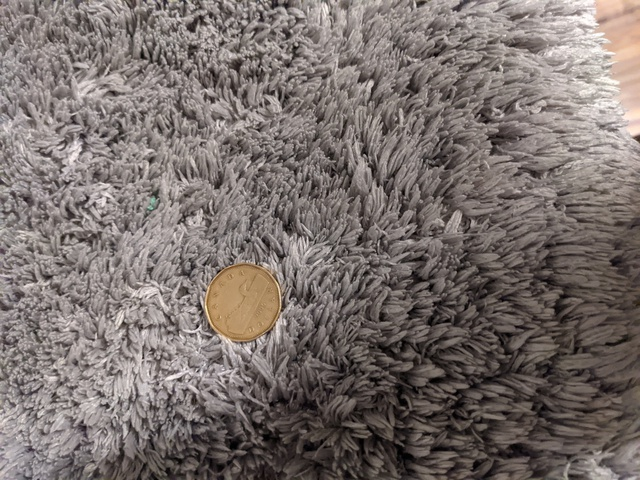loonie: (195, 264, 286, 342)
